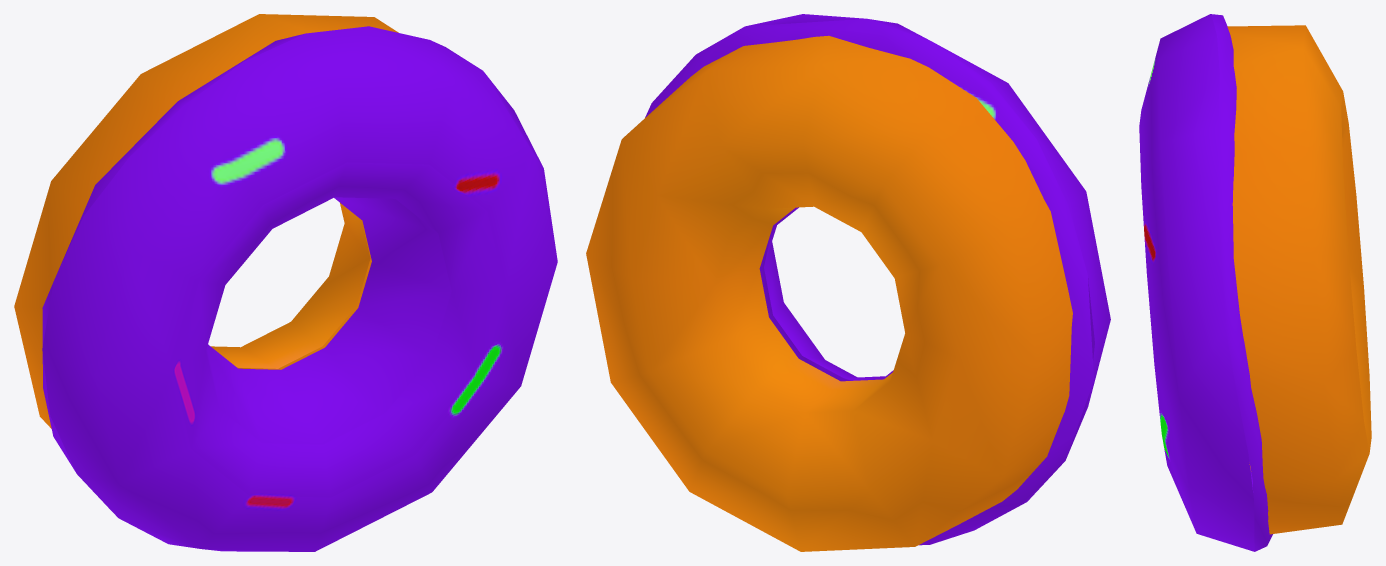
File: purple_donut.glb
3 views of the same model, side by side, from view 1: azimuth 30°, elevation 25°; view 2: azimuth 150°, elevation 25°; view 3: azimuth 270°, elevation 25° (orthographic). The views are drawn at different scales.
Parts seen in each view (by area): view 1: Purple_Donut; view 2: Purple_Donut; view 3: Purple_Donut.
Boxes of the visible parts, x1,y1,x2,y2 form: Purple_Donut: (14,14,557,551); Purple_Donut: (586,14,1110,551); Purple_Donut: (1139,14,1371,551).
Bounding box in the file's own units: 0.5966 × 0.5988 × 0.2574.
Materials: 1 (1 with a texture image).
